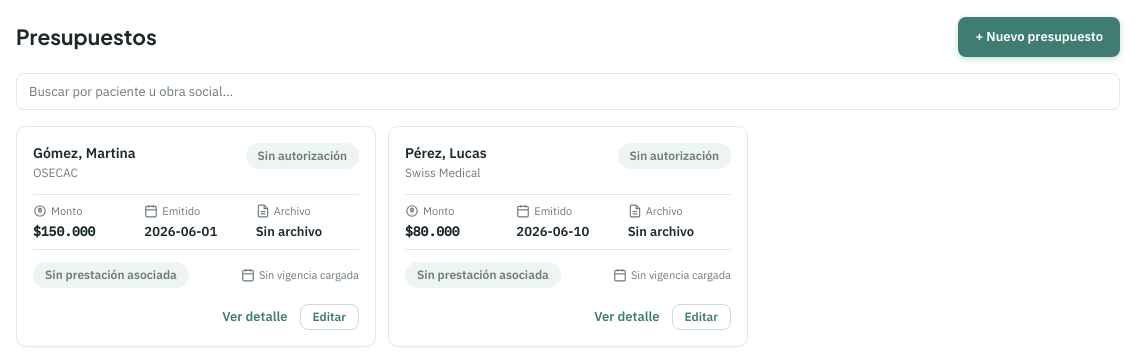
Scenario: PresupuestosList › filtra por nombre de paciente u obra social con el buscador
Type "swiss" into the field named "buscar presupuesto" at (568, 91), box [16,72,1120,110]
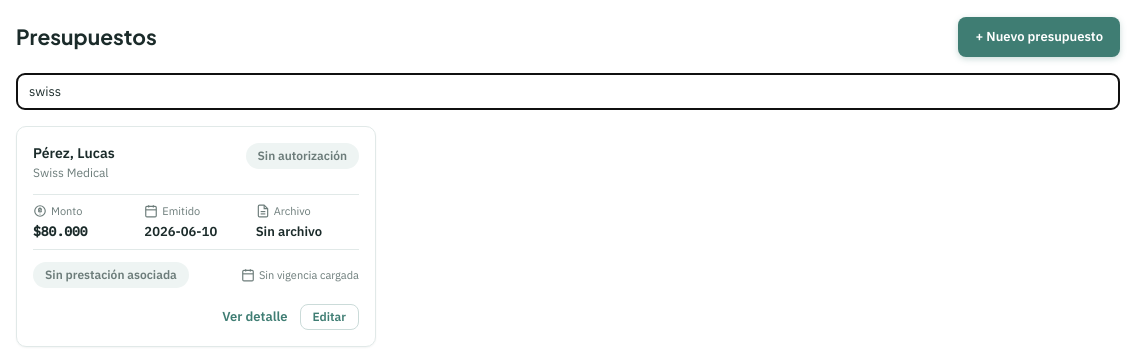
Expected: the text "Pérez, Lucas" is shown, [33,143,115,164]
Result: the text "Gómez, Martina" is gone
